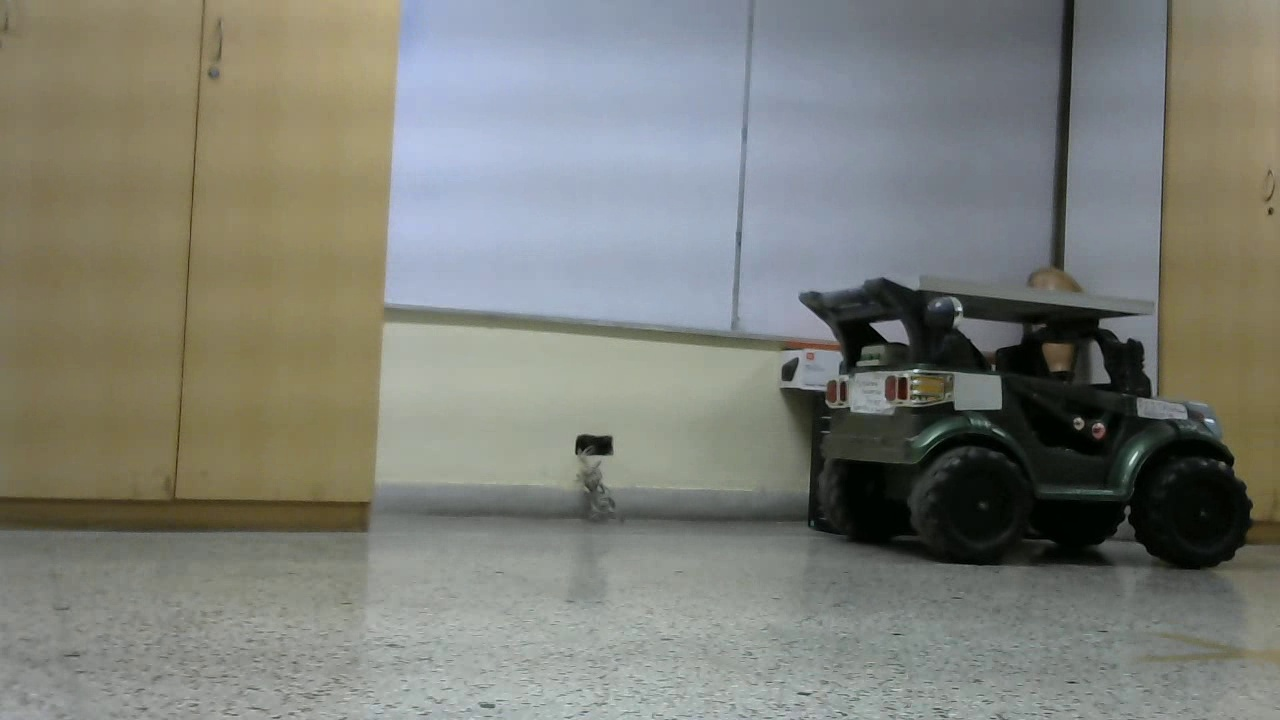chair: (1058, 1, 1280, 655)
